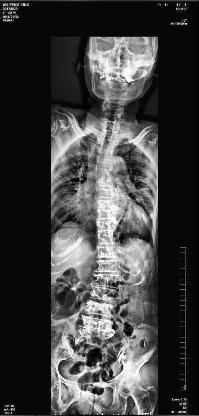Vertebrae: (86, 301, 112, 317), (90, 288, 116, 302), (94, 274, 117, 288), (98, 244, 117, 258), (96, 260, 117, 272), (97, 220, 114, 232), (102, 131, 120, 141), (96, 176, 114, 186), (96, 188, 114, 198), (96, 200, 114, 210), (97, 210, 115, 220), (96, 166, 112, 176), (97, 233, 113, 243), (101, 114, 120, 122), (104, 121, 120, 130), (100, 141, 116, 149), (98, 150, 114, 158), (96, 158, 112, 166)
